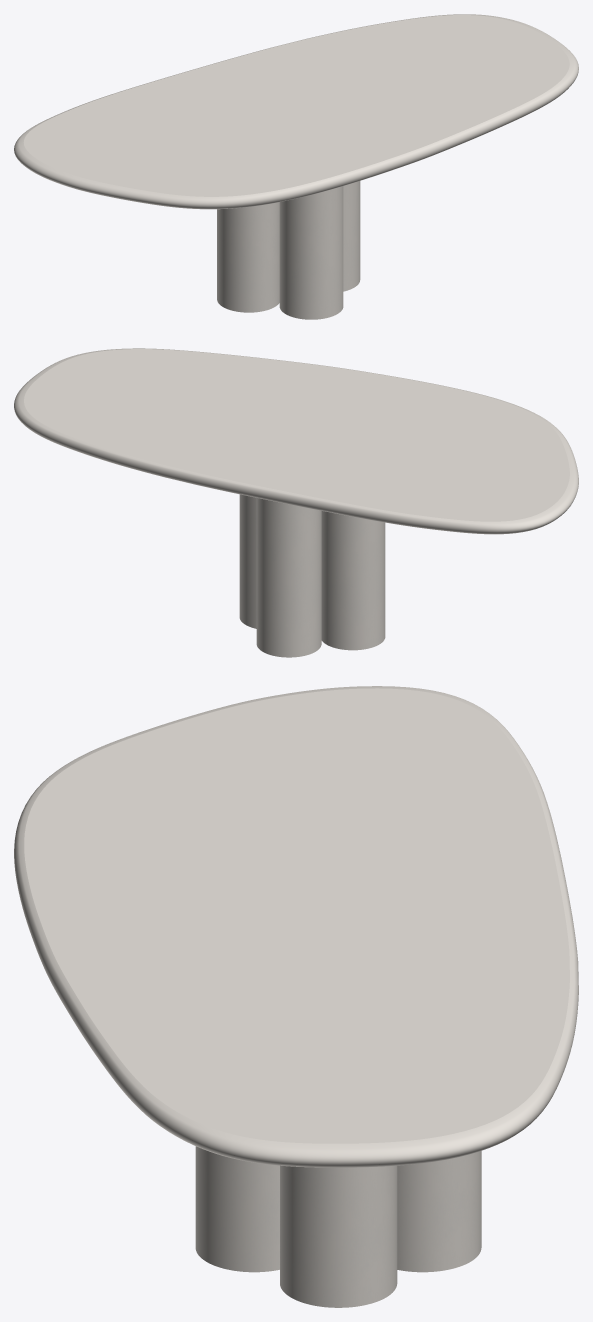
The model's file is pearlwhite_leaf2_round_secondtable.glb.
The picture shows the model from 3 angles, top to bottom: view 1: azimuth 30°, elevation 25°; view 2: azimuth 150°, elevation 25°; view 3: azimuth 270°, elevation 25°; orthographic projection. The views are drawn at different scales.
Visible parts, largest first — view 1: round_leaf2, secondtable; view 2: round_leaf2, secondtable; view 3: round_leaf2, secondtable.
Boxes of the visible parts, bbox=[...] form: round_leaf2: bbox=[14, 14, 578, 209]; secondtable: bbox=[217, 181, 360, 319]; round_leaf2: bbox=[14, 348, 578, 534]; secondtable: bbox=[239, 494, 385, 657]; round_leaf2: bbox=[14, 686, 578, 1167]; secondtable: bbox=[195, 1146, 481, 1307].
Bounding box in the file's own units: 7.5 × 2.52 × 3.8.
Materials: 1 (1 with a texture image).
